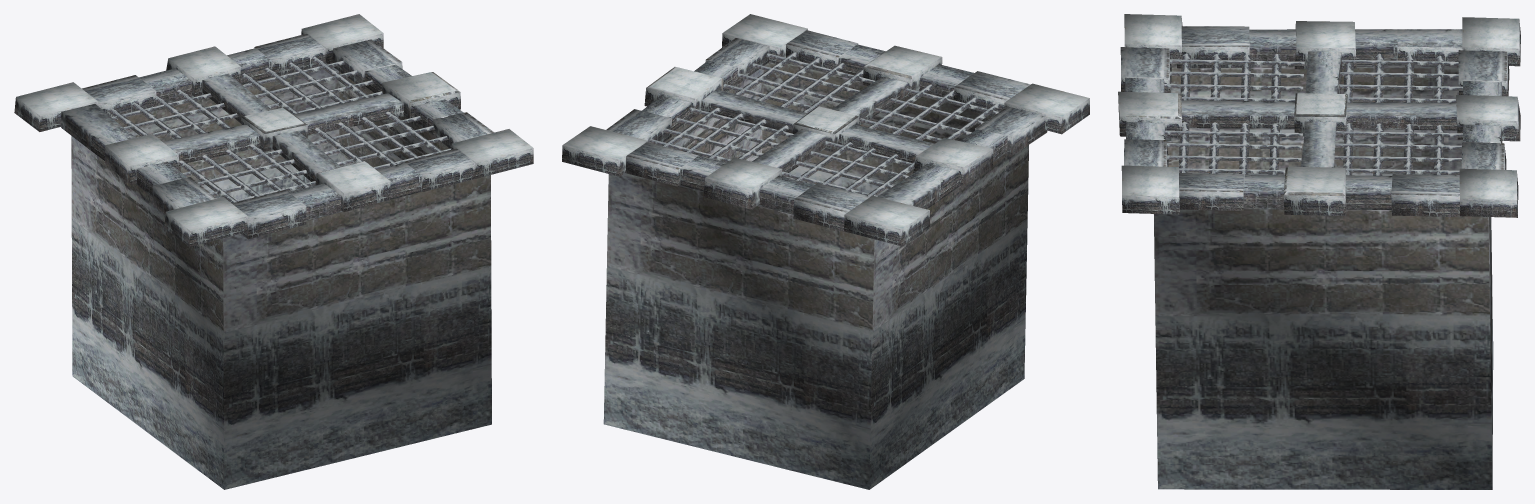
The model's file is S_Build_Snowland155.FBX.
3 renders of one model, left to right at view 1: azimuth 30°, elevation 25°; view 2: azimuth 150°, elevation 25°; view 3: azimuth 270°, elevation 25°, orthographic. The views are drawn at different scales.
Parts seen in each view (by area): view 1: S_Build_Snowland155; view 2: S_Build_Snowland155; view 3: S_Build_Snowland155.
Boxes of the visible parts, box(x1,y1,x2,y2) form: S_Build_Snowland155: box(14, 14, 533, 489); S_Build_Snowland155: box(562, 14, 1089, 489); S_Build_Snowland155: box(1118, 14, 1520, 489).
Bounding box in the file's own units: 482 × 442 × 377.
